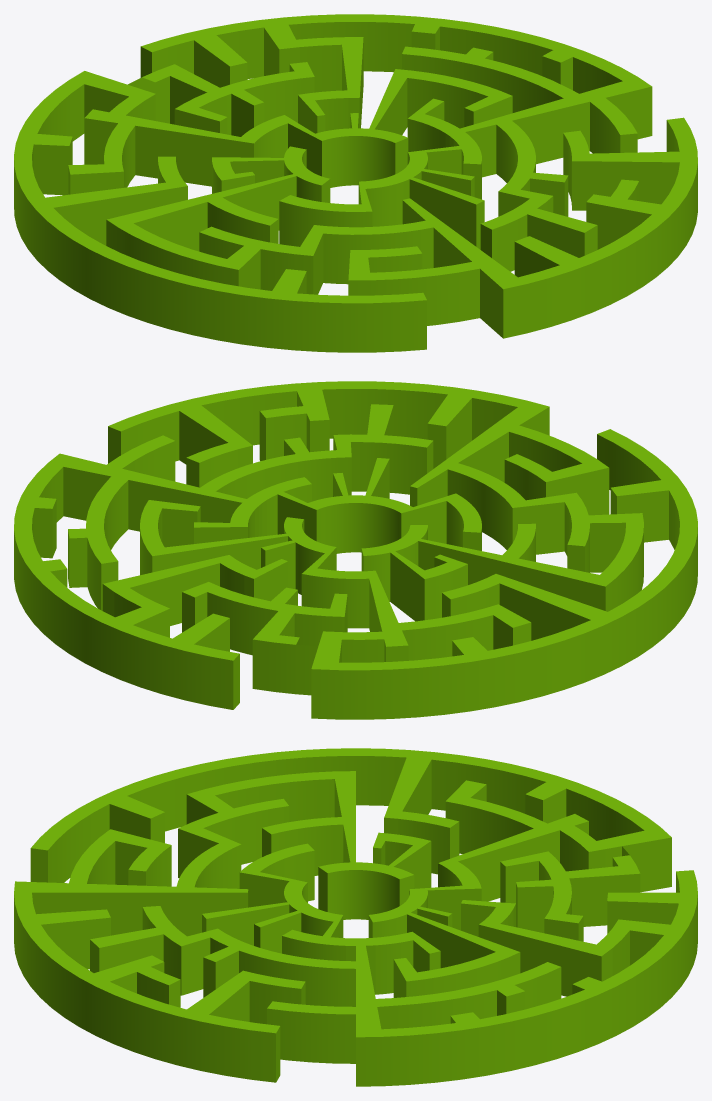
The model's file is Laberinto.fbx.
3 renders of one model, top to bottom at view 1: azimuth 30°, elevation 25°; view 2: azimuth 150°, elevation 25°; view 3: azimuth 270°, elevation 25°, orthographic.
Visible parts, largest first — view 1: polySurface85, polySurface84, polySurface86, polySurface74, polySurface22, polySurface51, polySurface72, polySurface35, polySurface12, polySurface45, polySurface50, polySurface17 (+49 smaller); view 2: polySurface85, polySurface84, polySurface86, polySurface22, polySurface65, polySurface68, polySurface70, polySurface87, polySurface45, polySurface40, polySurface55, polySurface12 (+49 smaller); view 3: polySurface85, polySurface84, polySurface86, polySurface43, polySurface12, polySurface68, polySurface8, polySurface87, polySurface50, polySurface57, polySurface28, polySurface52 (+51 smaller).
Part boxes in pixels (left/top/right/bottom): polySurface85: left=14, top=71, right=426, bottom=352; polySurface84: left=140, top=14, right=652, bottom=139; polySurface86: left=495, top=117, right=697, bottom=338; polySurface74: left=84, top=109, right=240, bottom=186; polySurface22: left=445, top=81, right=636, bottom=177; polySurface51: left=348, top=257, right=499, bottom=325; polySurface72: left=310, top=128, right=408, bottom=187; polySurface35: left=571, top=151, right=679, bottom=210; polySurface12: left=402, top=46, right=578, bottom=112; polySurface45: left=122, top=174, right=296, bottom=251; polySurface50: left=106, top=216, right=245, bottom=287; polySurface17: left=45, top=180, right=187, bottom=245; polySurface85: left=311, top=429, right=697, bottom=719; polySurface84: left=14, top=453, right=239, bottom=709; polySurface86: left=108, top=381, right=549, bottom=463; polySurface22: left=63, top=457, right=262, bottom=536; polySurface65: left=303, top=495, right=416, bottom=553; polySurface68: left=321, top=604, right=508, bottom=662; polySurface70: left=196, top=582, right=345, bottom=655; polySurface87: left=200, top=449, right=351, bottom=501; polySurface45: left=418, top=539, right=598, bottom=605; polySurface40: left=333, top=434, right=433, bottom=494; polySurface55: left=437, top=460, right=529, bottom=549; polySurface12: left=86, top=476, right=128, bottom=610; polySurface85: left=30, top=748, right=671, bottom=889; polySurface84: left=356, top=870, right=697, bottom=1086; polySurface86: left=14, top=881, right=280, bottom=1082; polySurface43: left=32, top=882, right=248, bottom=935; polySurface12: left=376, top=962, right=561, bottom=1029; polySurface68: left=445, top=794, right=605, bottom=871; polySurface8: left=267, top=1001, right=378, bottom=1063; polySurface87: left=203, top=928, right=355, bottom=1006; polySurface50: left=186, top=771, right=355, bottom=824; polySurface57: left=318, top=862, right=414, bottom=919; polySurface28: left=478, top=920, right=612, bottom=996; polySurface52: left=178, top=798, right=289, bottom=877.
Size of the model in its own units: 1.9 by 0.1515 by 1.9.
